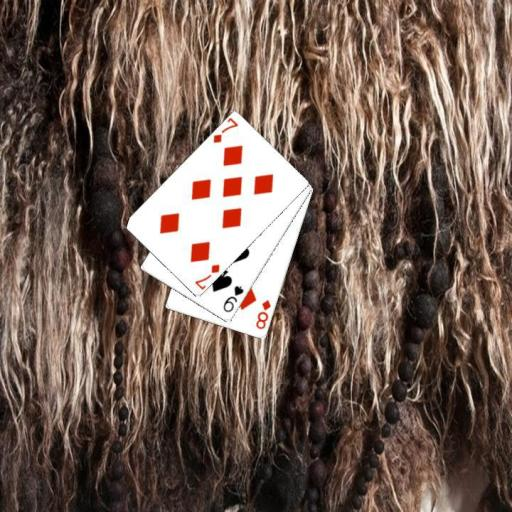7D: (191, 261, 221, 291), (210, 116, 240, 145)
8D: (253, 297, 273, 331)
9S: (220, 283, 245, 314)
